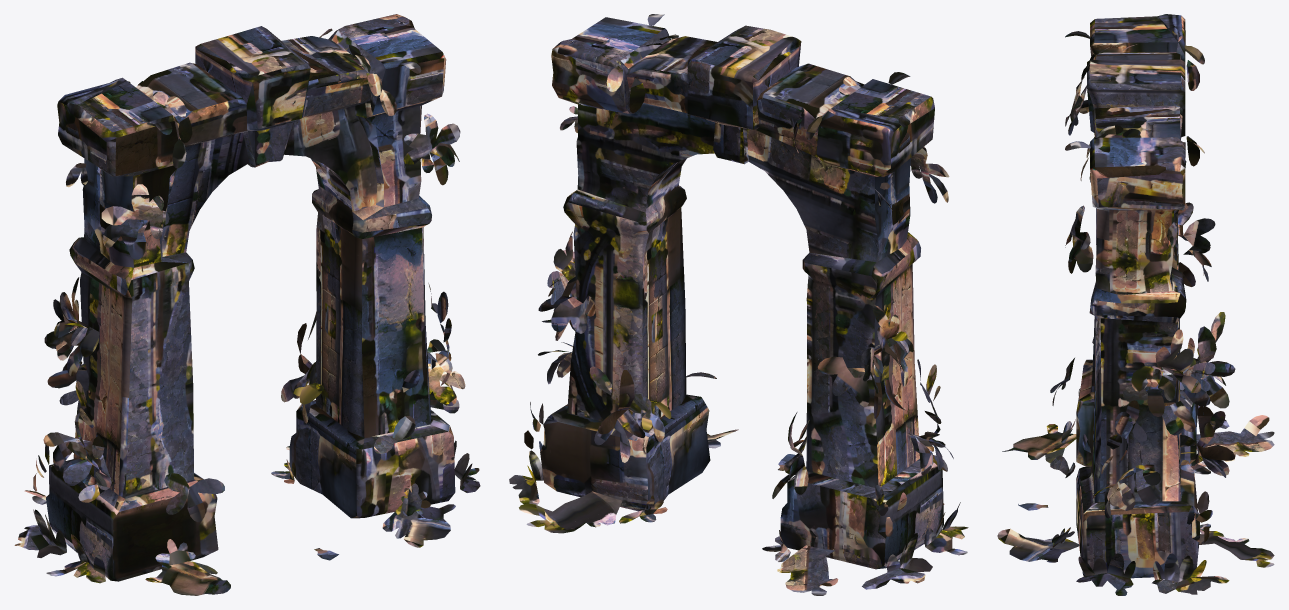
Rendered from stone_arch.fbx.
The picture shows the model from 3 angles, left to right: view 1: azimuth 30°, elevation 25°; view 2: azimuth 150°, elevation 25°; view 3: azimuth 270°, elevation 25°; orthographic projection. The views are drawn at different scales.
Visible parts, largest first — view 1: tripo_37f5ca61_fb8a_4d6b_bd6f_882e9653ea33; view 2: tripo_37f5ca61_fb8a_4d6b_bd6f_882e9653ea33; view 3: tripo_37f5ca61_fb8a_4d6b_bd6f_882e9653ea33.
Boxes of the visible parts, x1,y1,x2,y2 form: tripo_37f5ca61_fb8a_4d6b_bd6f_882e9653ea33: (14,14,480,595); tripo_37f5ca61_fb8a_4d6b_bd6f_882e9653ea33: (509,14,968,595); tripo_37f5ca61_fb8a_4d6b_bd6f_882e9653ea33: (997,14,1274,595).
Size of the model in its own units: 0.9614 by 0.9995 by 0.5796.
